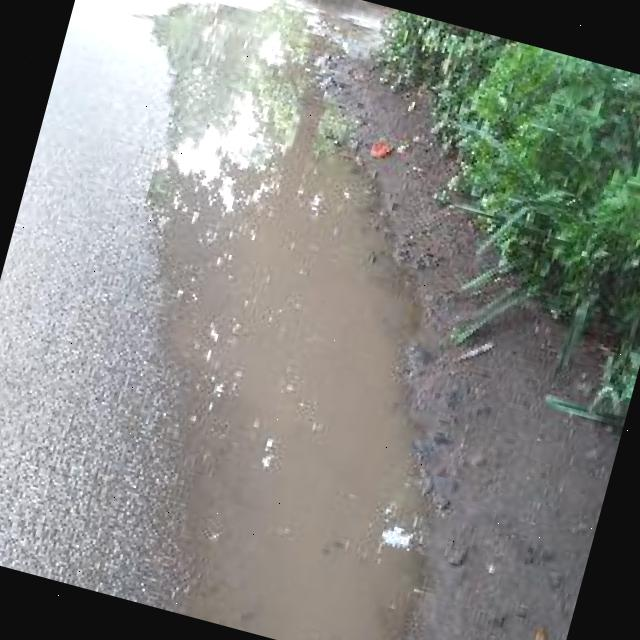stagnation: (129, 3, 425, 640)
